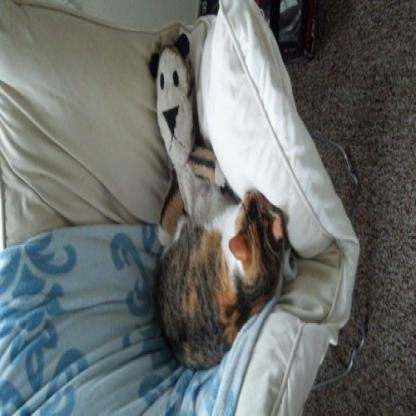Target: (152, 113, 288, 376)
